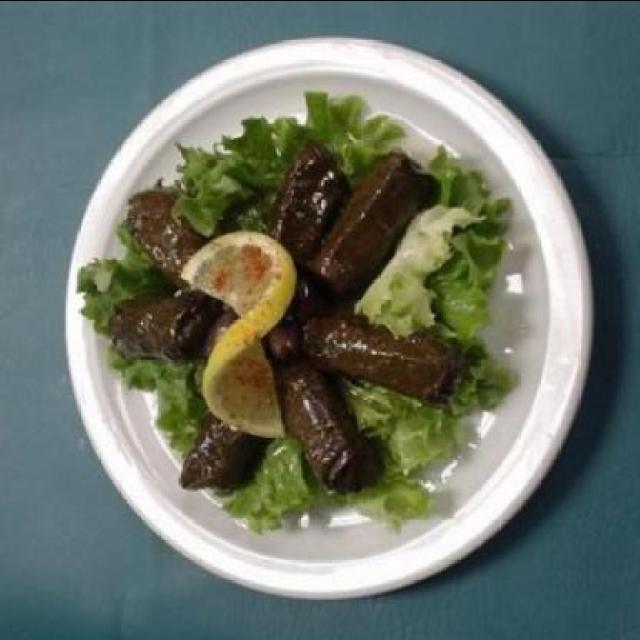Salad: (71, 88, 515, 538)
